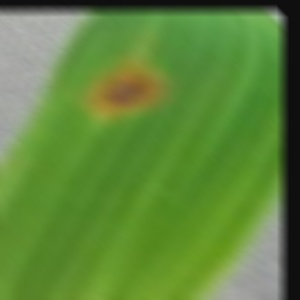Bacterial_Leaf_Blight: (82, 57, 173, 127)
